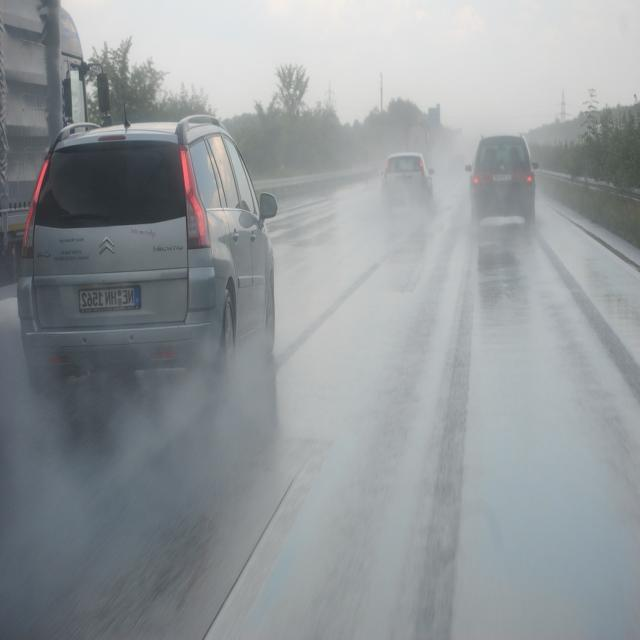bus: (3, 23, 113, 307)
car: (17, 118, 281, 390), (469, 134, 536, 226), (379, 148, 436, 218)
